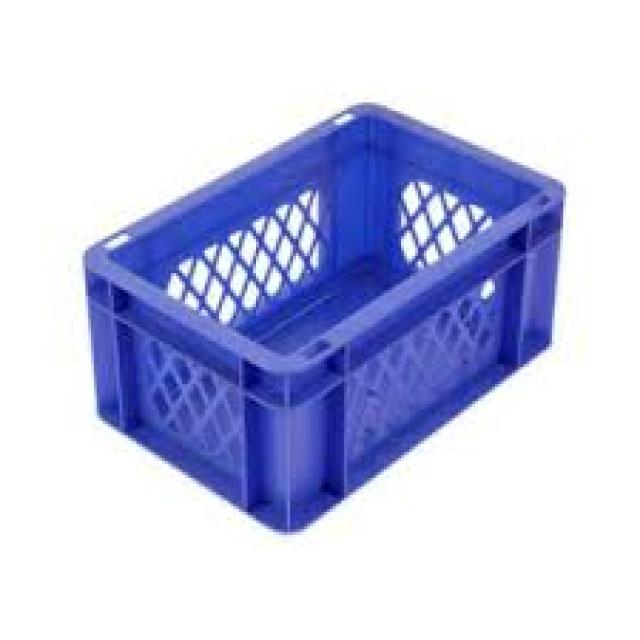basket: (18, 3, 633, 584)
